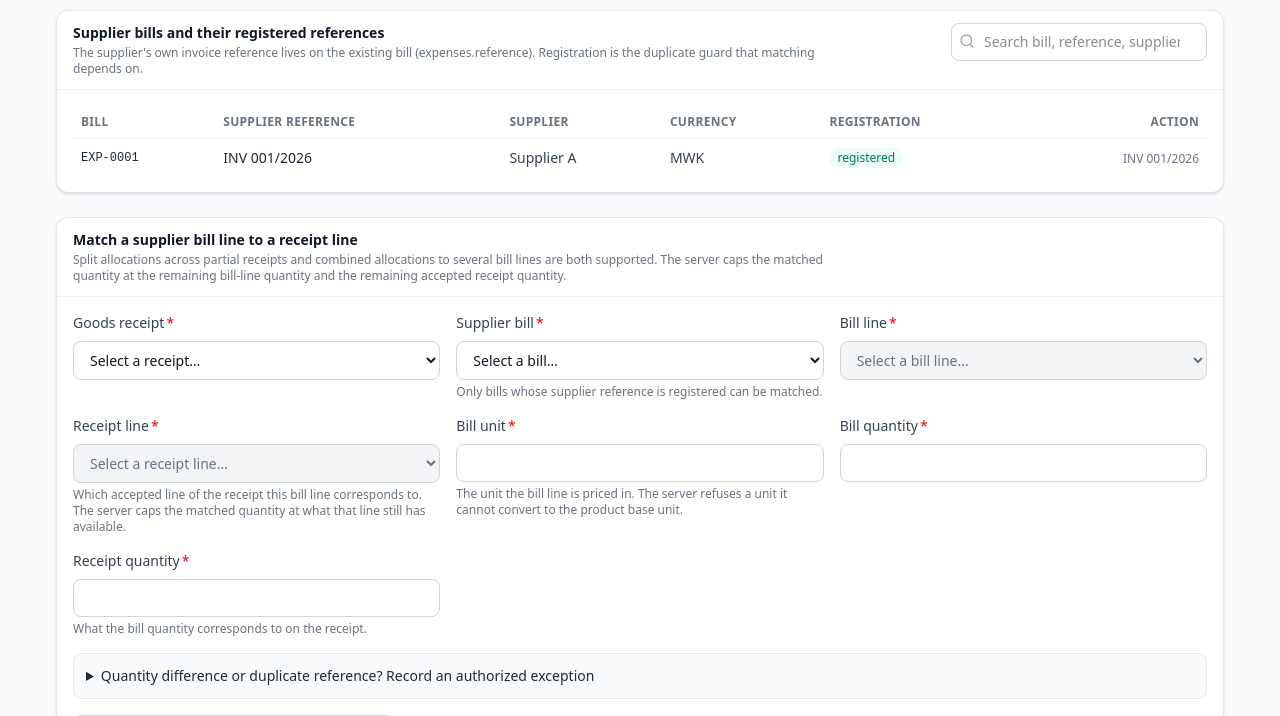
Test: Construction workspace — supplier bill matching › submits the match command when the operator presses the primary action
(page scrolled)
Select "GRN-000001 · SITE-1 · PRJ-1" in the dropdown labelled "Goods receipt" at coordinates (257, 360), box x1=73 y1=341 x2=440 y2=380
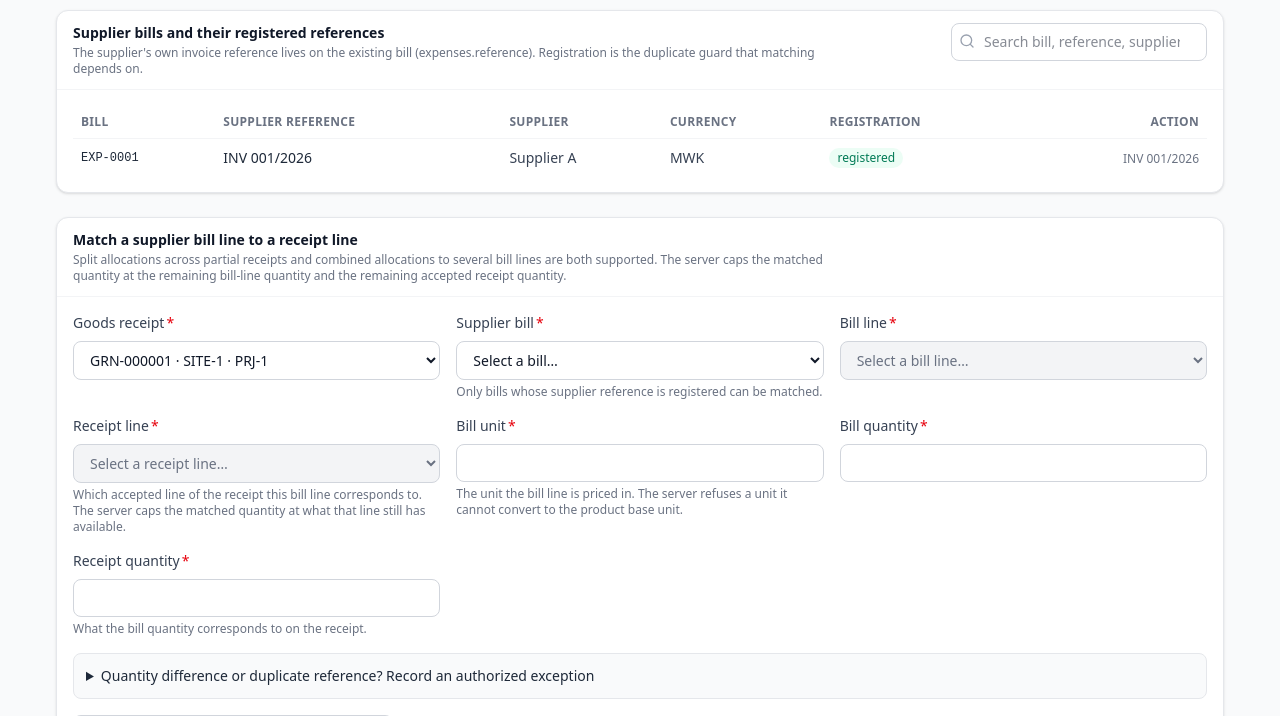
Select "EXP-0001 · INV 001/2026 · MWK" in the dropdown labelled "Supplier bill" at coordinates (640, 360), box x1=456 y1=341 x2=824 y2=380
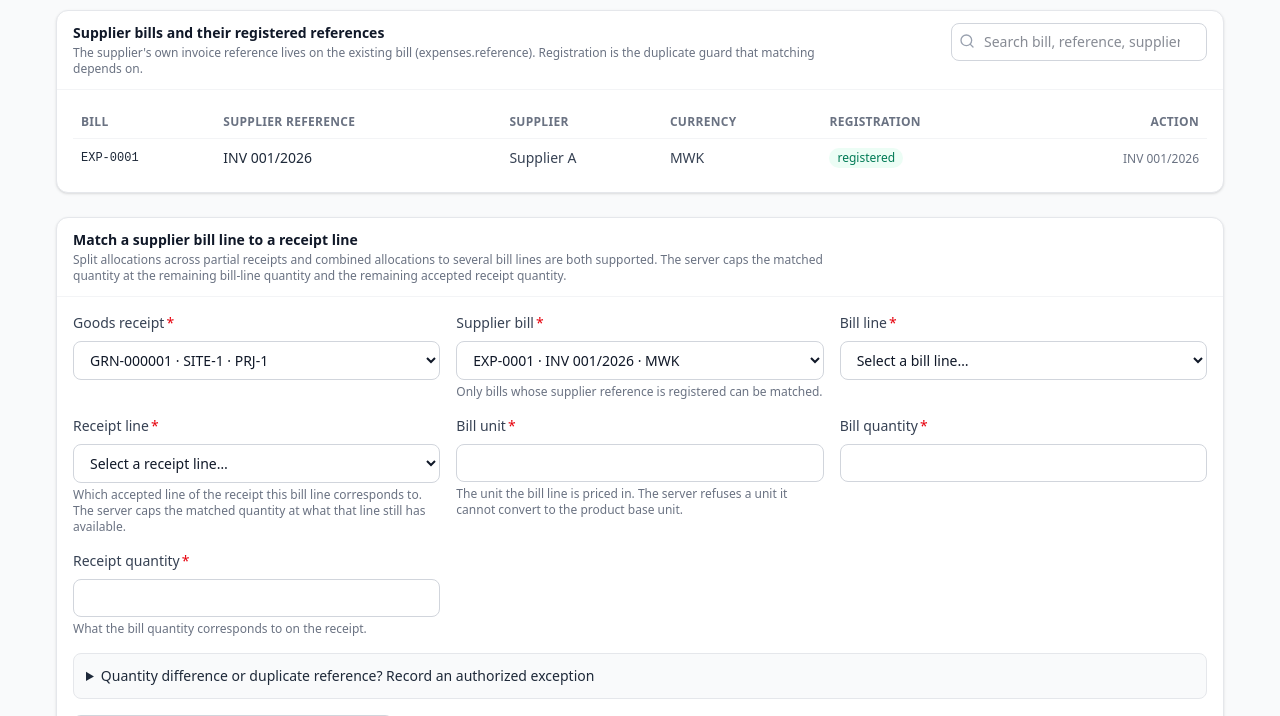
Select "1 · Cement 50kg · 10 @ MWK 900.00" in the dropdown labelled "Bill line" at coordinates (1023, 360), box x1=840 y1=341 x2=1207 y2=380
Type "BAG" into the field labelled "Bill unit" at coordinates (640, 463), box x1=456 y1=444 x2=824 y2=482
Type "10" into the number field labelled "Bill quantity" at coordinates (1023, 463), box x1=840 y1=444 x2=1207 y2=482
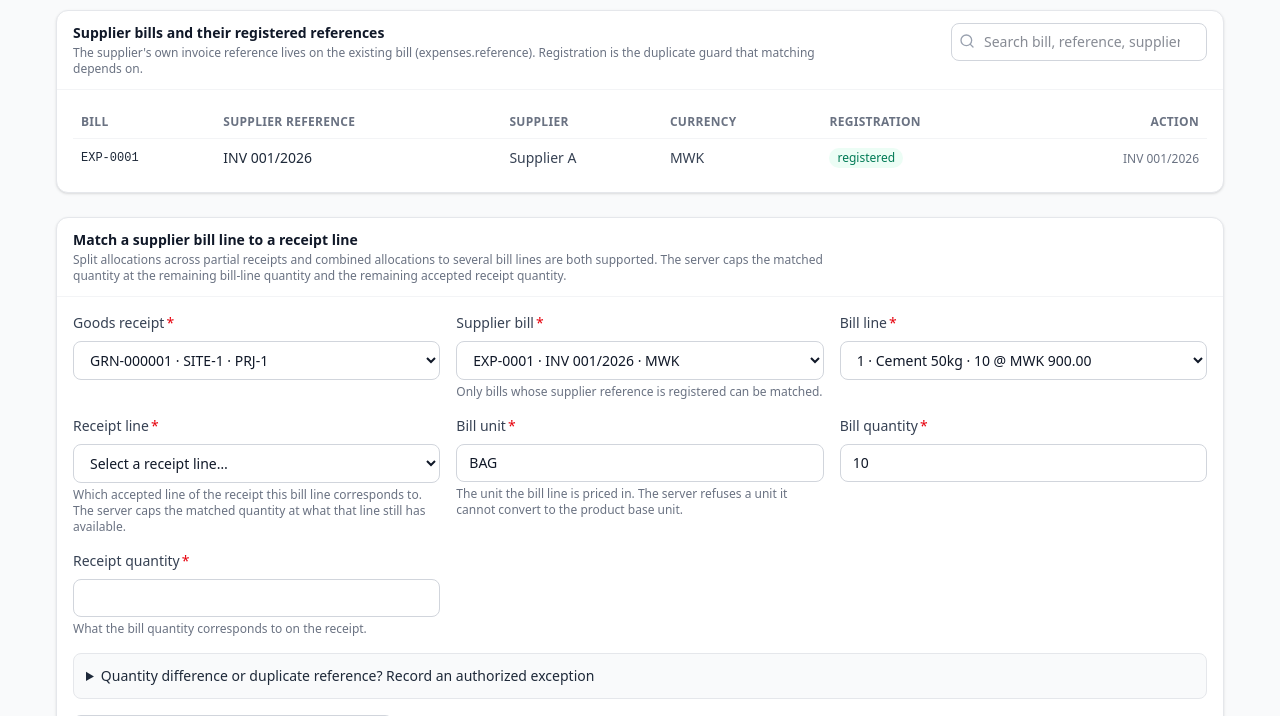
Type "10" into the number field labelled "Receipt quantity" at coordinates (257, 598), box x1=73 y1=579 x2=440 y2=617
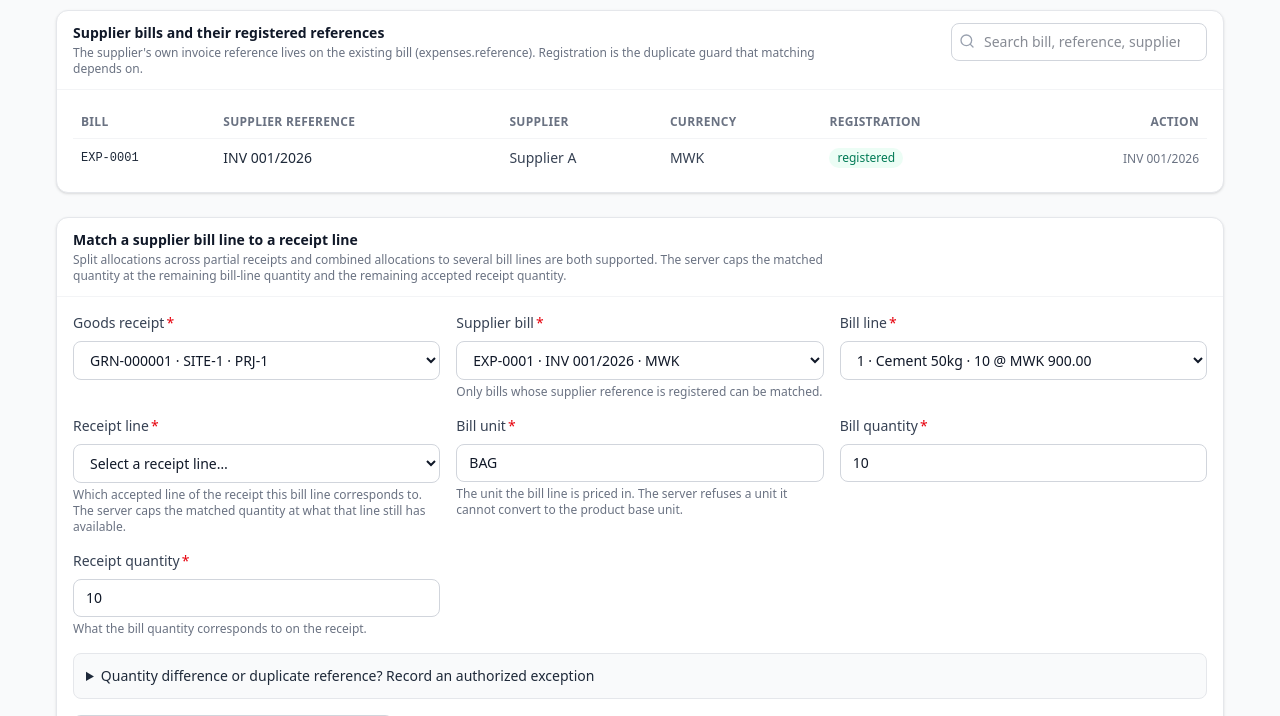
Select "Line 1 · Cement 50kg · 10 base units accepted" in the dropdown labelled "Receipt line" at coordinates (257, 464), box x1=73 y1=444 x2=440 y2=483
(page scrolled)
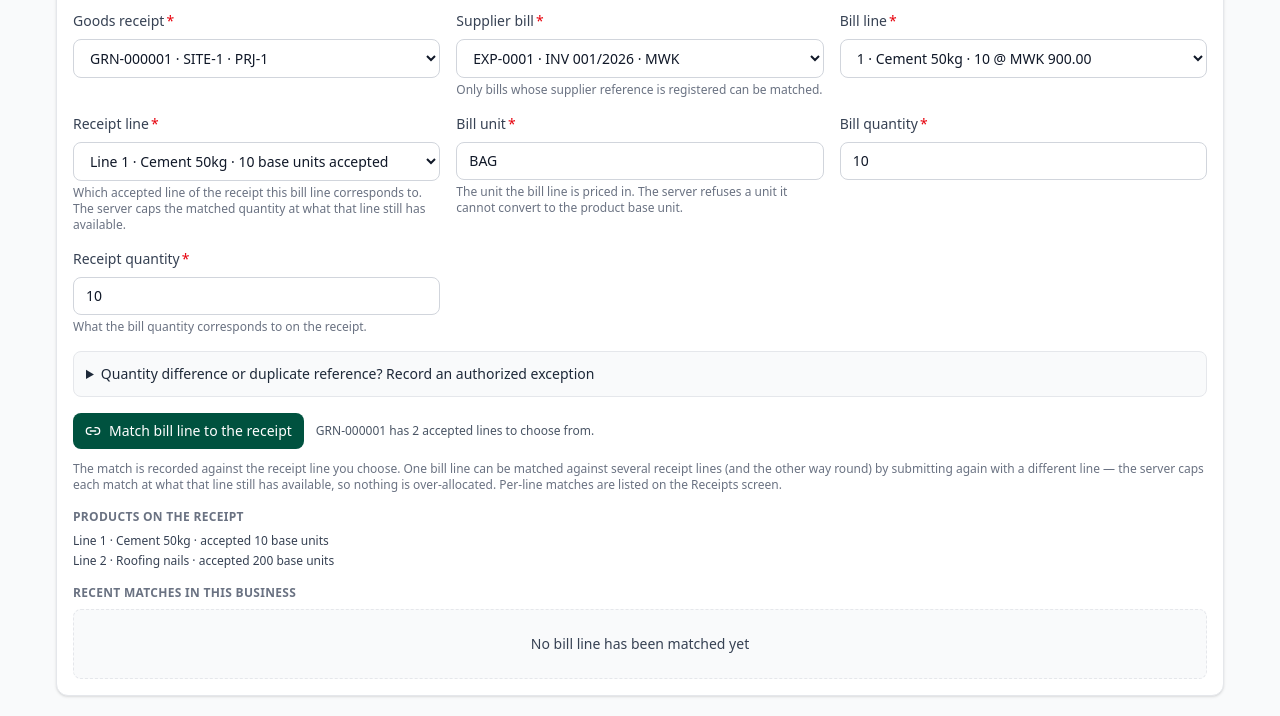
Now the button "Match bill line to the receipt" is enabled
Click the button "Match bill line to the receipt" at coordinates (188, 431), box x1=73 y1=413 x2=304 y2=449
(page scrolled)
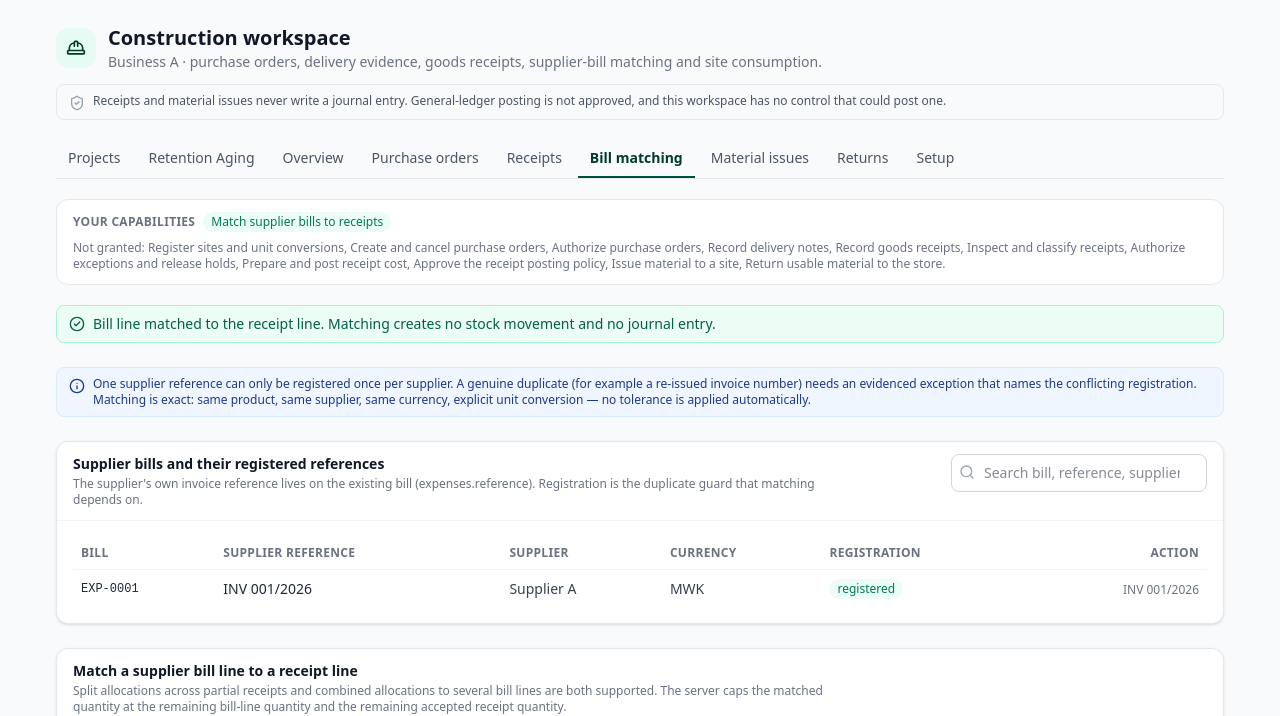
Now the text "matched to the receipt line" is shown, box x1=93 y1=314 x2=716 y2=333
